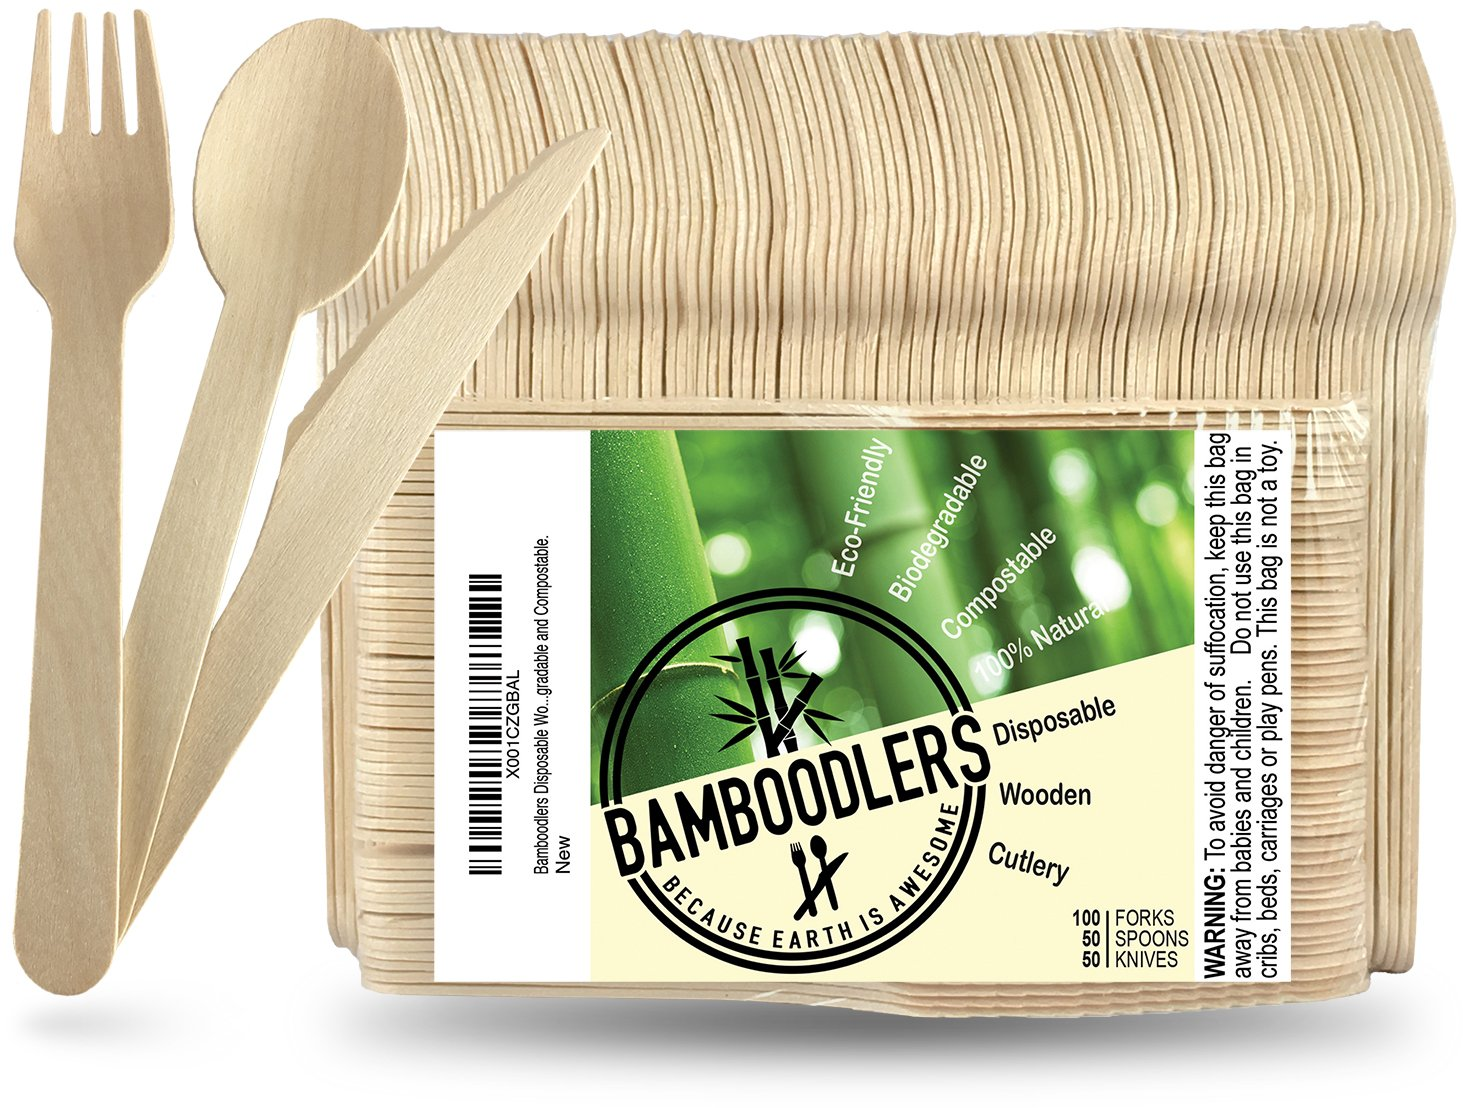Wooden Utensils: (9, 24, 594, 1001)
